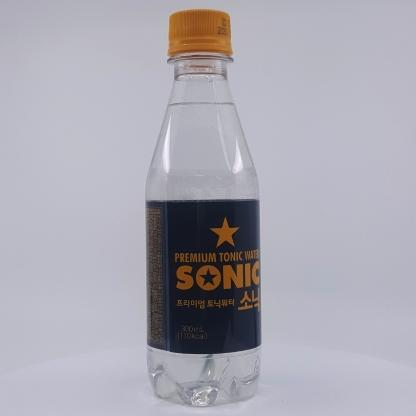----------------300ML: (145, 8, 262, 407)
